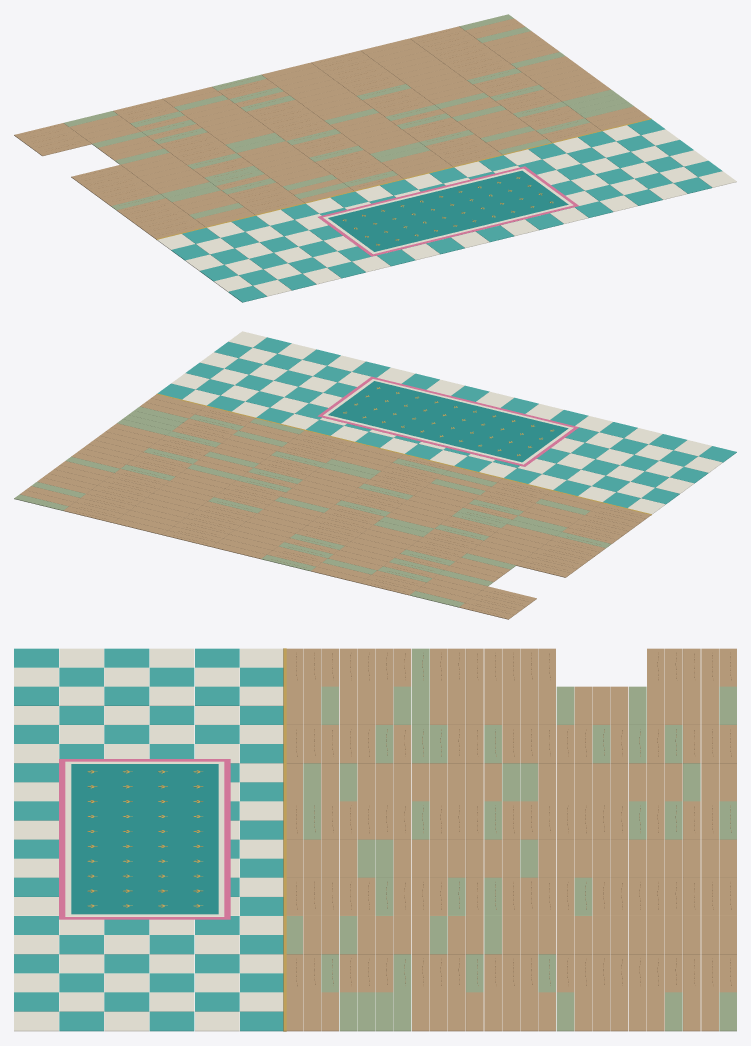
The model's file is shop_floor_botanical.glb.
3 views of the same model, one above another, from view 1: azimuth 30°, elevation 25°; view 2: azimuth 150°, elevation 25°; view 3: azimuth 270°, elevation 25° (orthographic). The views are drawn at different scales.
Visible parts, largest first — view 1: Inset_woven_rug.002, Inset_woven_rug, Inset_woven_rug.001, Flush_brass_transition; view 2: Inset_woven_rug.002, Inset_woven_rug, Inset_woven_rug.001, Flush_brass_transition; view 3: Inset_woven_rug.002, Inset_woven_rug, Inset_woven_rug.001, Flush_brass_transition, Checker_tile.079, Checker_tile.059, Checker_tile.039, Checker_tile.099, Checker_tile.119, Checker_tile.019, Checker_tile.058, Checker_tile.078 (+325 smaller).
Part boxes in pixels (bbox=[...]): Inset_woven_rug.002: bbox=[328, 170, 568, 251]; Inset_woven_rug: bbox=[318, 166, 578, 256]; Inset_woven_rug.001: bbox=[323, 168, 573, 254]; Flush_brass_transition: bbox=[156, 118, 651, 239]; Inset_woven_rug.002: bbox=[328, 381, 568, 462]; Inset_woven_rug: bbox=[317, 376, 578, 466]; Inset_woven_rug.001: bbox=[323, 379, 573, 464]; Flush_brass_transition: bbox=[156, 393, 651, 515]; Inset_woven_rug.002: bbox=[71, 764, 218, 914]; Inset_woven_rug: bbox=[59, 759, 230, 919]; Inset_woven_rug.001: bbox=[65, 761, 224, 916]; Flush_brass_transition: bbox=[283, 648, 286, 1031]; Checker_tile.079: bbox=[104, 1011, 149, 1031]; Checker_tile.059: bbox=[149, 1011, 194, 1031]; Checker_tile.039: bbox=[195, 1011, 239, 1031]; Checker_tile.099: bbox=[59, 1011, 103, 1031]; Checker_tile.119: bbox=[14, 1011, 58, 1031]; Checker_tile.019: bbox=[240, 1011, 283, 1031]; Checker_tile.058: bbox=[149, 992, 194, 1011]; Checker_tile.078: bbox=[104, 992, 149, 1011].
Size of the model in its own units: 10 by 0.0212 by 8.
